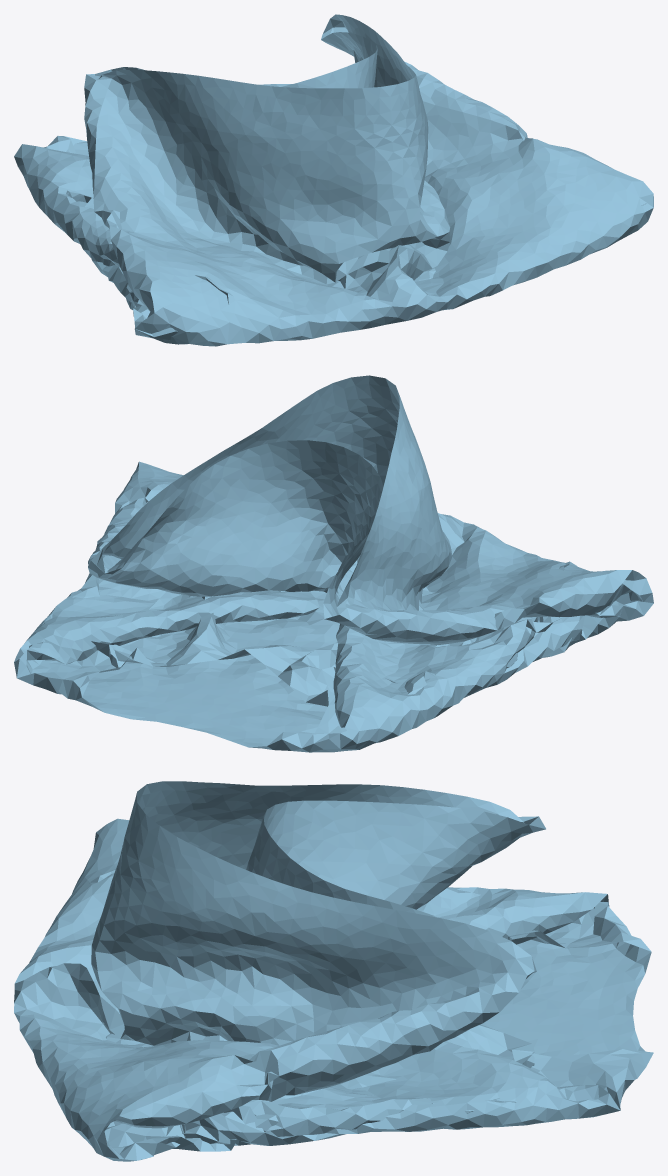
The model's file is frame_19.glb.
3 views of the same model, one above another, from view 1: azimuth 30°, elevation 25°; view 2: azimuth 150°, elevation 25°; view 3: azimuth 270°, elevation 25° (orthographic). The views are drawn at different scales.
Parts seen in each view (by area): view 1: frame_19.obj; view 2: frame_19.obj; view 3: frame_19.obj.
Boxes of the visible parts, <box> form: frame_19.obj: <box>14,14,653,346</box>; frame_19.obj: <box>14,375,653,752</box>; frame_19.obj: <box>14,781,653,1161</box>.
Bounding box in the file's own units: 1.11 × 0.4153 × 1.01.
